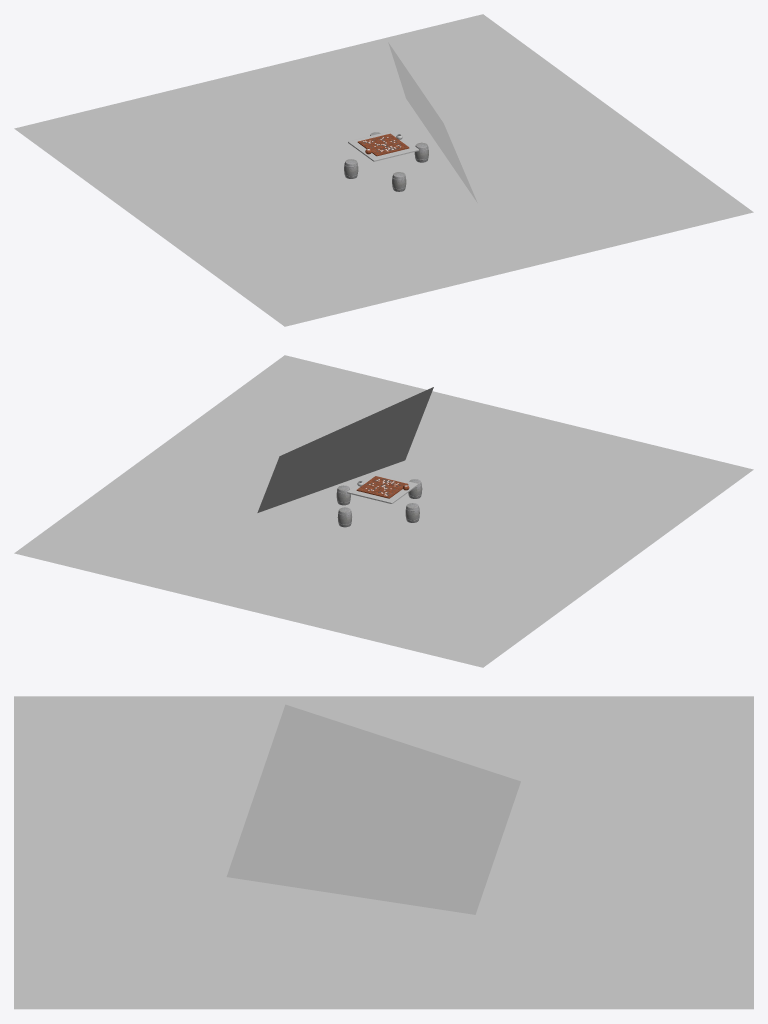
The picture shows the model from 3 angles, top to bottom: view 1: azimuth 30°, elevation 25°; view 2: azimuth 150°, elevation 25°; view 3: azimuth 270°, elevation 25°; orthographic projection. The views are drawn at different scales.
Visible parts, largest first — view 1: 平面, 平面_1, Obj3d66_542997_846_961, 石头; view 2: 平面, 平面_1, Obj3d66_542997_846_961, 石头; view 3: 平面, 平面_1.
Part boxes in pixels (bbox=[...]): 平面: bbox=[14, 14, 753, 326]; 平面_1: bbox=[388, 42, 477, 202]; Obj3d66_542997_846_961: bbox=[357, 133, 409, 156]; 石头: bbox=[348, 130, 418, 161]; 平面: bbox=[14, 355, 753, 667]; 平面_1: bbox=[257, 387, 433, 512]; Obj3d66_542997_846_961: bbox=[356, 476, 408, 498]; 石头: bbox=[347, 473, 417, 503]; 平面: bbox=[14, 696, 753, 1009]; 平面_1: bbox=[226, 704, 520, 914].
Bounding box in the file's own units: 7639 × 2451 × 7639.
